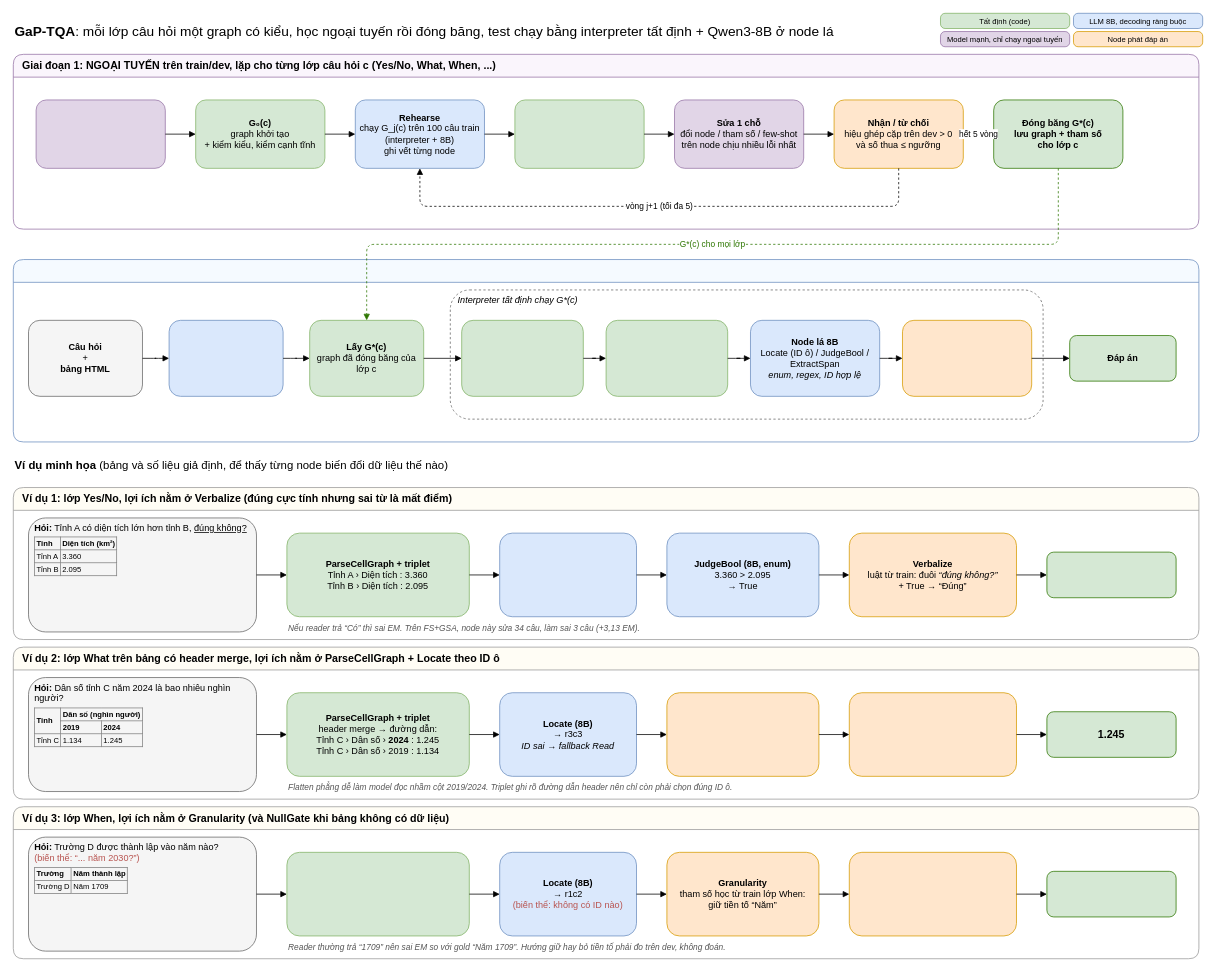
This 1216x972 diagram has some shape labels left out. The box of each missing label's shape, as (x1, y1, x2, y2) in pixels:
Giai đoạn 2: TEST, không agent, 1 đến 3 lệnh gọi 8B mỗi câu: (13, 259, 1199, 442)
Granularity chính sách lớp What: phát nguyên văn ô: (666, 692, 819, 776)
Harness (model mạnh) đọc mô tả lớp c + thư viện node + 10 ví dụ train: (35, 99, 165, 168)
Hint Predictor (POMA hiện có) → lớp c: (168, 320, 283, 396)
Locate (8B) → {r1c2, r2c2}: (499, 532, 636, 617)
NullGate có ô hợp lệ → giữ đáp án: (849, 692, 1016, 776)
NullGate có ô → giữ không có ô → “Null”: (849, 852, 1016, 936)
Năm 1709: (1046, 871, 1176, 917)
ParseCellGraph + triplet Trường D › Năm thành lập : Năm 1709: (286, 852, 469, 936)
ParseCellGraph lưới ô theo rowspan/colspan, forward-fill ô merge: (461, 320, 583, 396)
Phát đáp án Verbalize / Granularity / NullGate (tham số học từ train): (902, 320, 1032, 396)
Quy lỗi về node so vết với gold: node đầu tiên lệch (Locate? Granularity? Null?): (514, 99, 644, 168)
View triplet ⟨hàng › header cột : giá trị⟩ chỉ phần liên quan: (605, 320, 728, 396)
Đúng: (1046, 551, 1176, 598)
